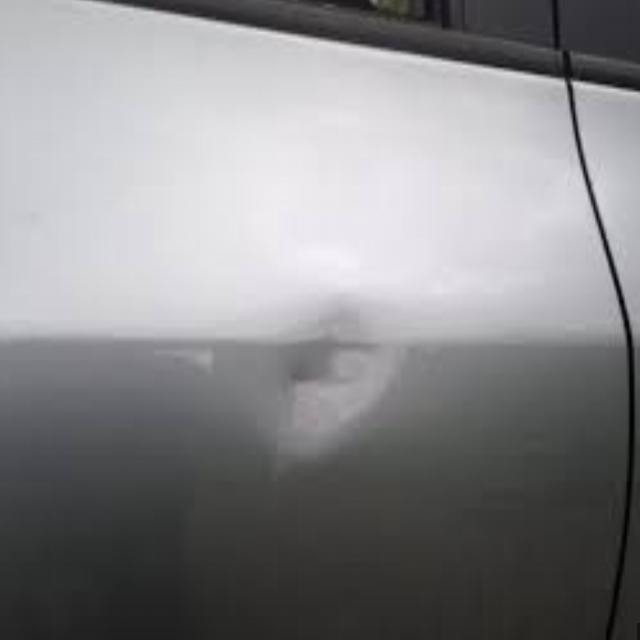dents: (275, 253, 408, 490)
